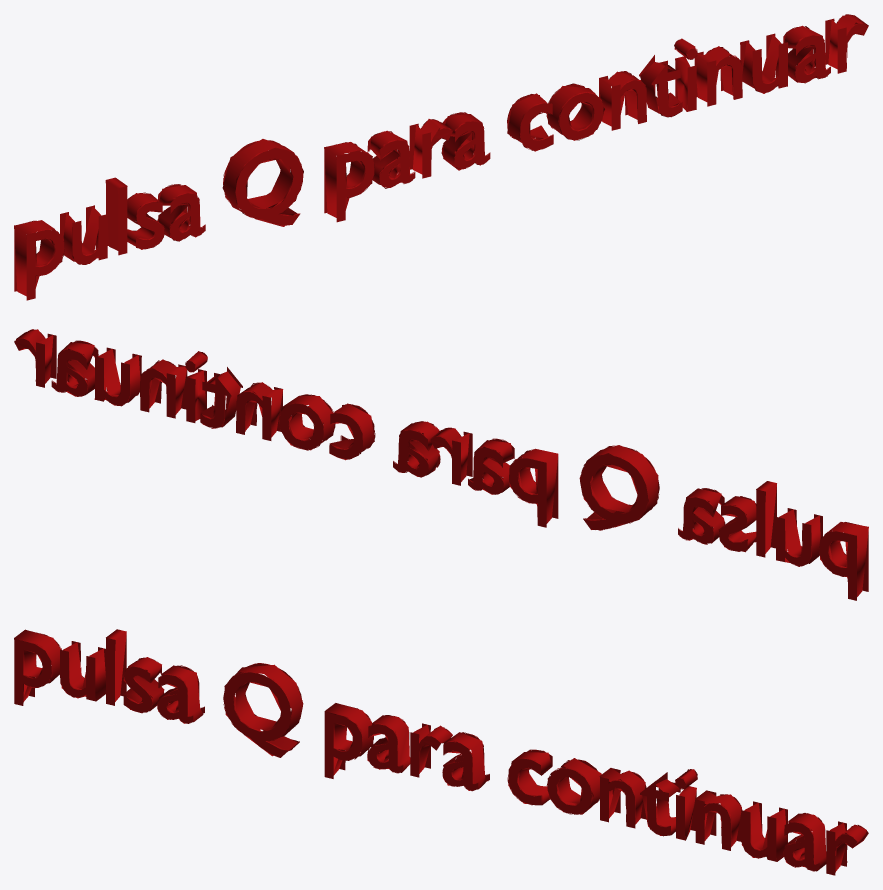
The model's file is letrasParaReinicio.obj.
The picture shows the model from 3 angles, top to bottom: view 1: azimuth 30°, elevation 25°; view 2: azimuth 150°, elevation 25°; view 3: azimuth 330°, elevation 25°; orthographic projection.
Parts seen in each view (by area): view 1: Text.011; view 2: Text.011; view 3: Text.011.
Boxes of the visible parts, left/top/right/bottom form: Text.011: left=14, top=14, right=868, bottom=300; Text.011: left=14, top=329, right=868, bottom=600; Text.011: left=14, top=629, right=868, bottom=875.
Bounding box in the file's own units: 5.98 × 0.6113 × 0.2379.
